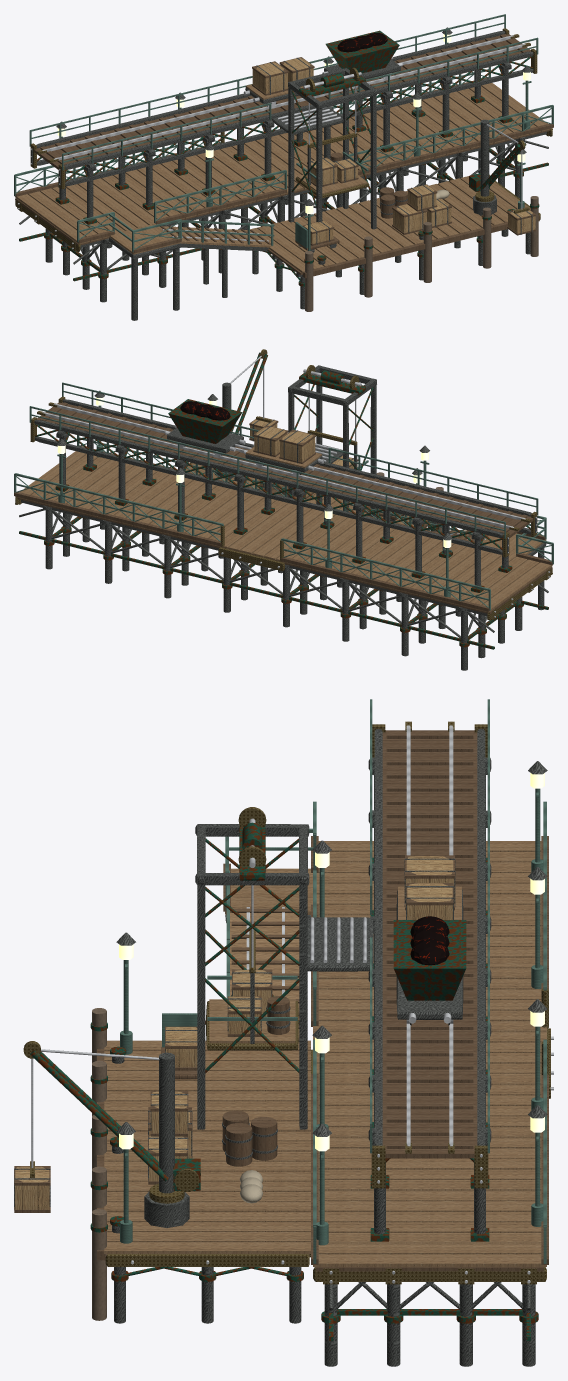
File: muelle_riotinto_odiel_juego_web.glb
The picture shows the model from 3 angles, top to bottom: view 1: azimuth 30°, elevation 25°; view 2: azimuth 150°, elevation 25°; view 3: azimuth 270°, elevation 25°; orthographic projection. The views are drawn at different scales.
Visible parts, largest first — view 1: Muelle_Madera_Tablero, Muelle_Hierro_Muelle, Muelle_Madera_Traviesa, Muelle_Barandilla_Verde, Muelle_Hierro_Oxido, Muelle_Madera_Caja, Muelle_Acero_Rail, Muelle_Defensa_Pilote, Muelle_Brida_Acople, Muelle_Mineral_Riotinto, Muelle_Luz_Farola; view 2: Muelle_Hierro_Muelle, Muelle_Madera_Tablero, Muelle_Barandilla_Verde, Muelle_Madera_Traviesa, Muelle_Hierro_Oxido, Muelle_Acero_Rail, Muelle_Brida_Acople, Muelle_Madera_Caja, Muelle_Mineral_Riotinto, Muelle_Luz_Farola; view 3: Muelle_Madera_Tablero, Muelle_Madera_Traviesa, Muelle_Hierro_Muelle, Muelle_Hierro_Oxido, Muelle_Barandilla_Verde, Muelle_Brida_Acople, Muelle_Madera_Caja, Muelle_Acero_Rail, Muelle_Defensa_Pilote, Muelle_Luz_Farola, Muelle_Mineral_Riotinto.
Part boxes in pixels (<box>): Muelle_Madera_Tablero: <box>15,82,552,273</box>; Muelle_Hierro_Muelle: <box>19,27,548,320</box>; Muelle_Madera_Traviesa: <box>15,34,553,278</box>; Muelle_Barandilla_Verde: <box>14,14,553,252</box>; Muelle_Hierro_Oxido: <box>19,30,548,286</box>; Muelle_Madera_Caja: <box>252,58,535,243</box>; Muelle_Acero_Rail: <box>17,35,525,249</box>; Muelle_Defensa_Pilote: <box>305,196,538,311</box>; Muelle_Brida_Acople: <box>15,28,552,251</box>; Muelle_Mineral_Riotinto: <box>337,33,387,52</box>; Muelle_Luz_Farola: <box>57,34,530,213</box>; Muelle_Hierro_Muelle: <box>19,365,548,670</box>; Muelle_Madera_Tablero: <box>15,446,552,612</box>; Muelle_Barandilla_Verde: <box>14,382,553,610</box>; Muelle_Madera_Traviesa: <box>14,402,552,614</box>; Muelle_Hierro_Oxido: <box>19,352,548,649</box>; Muelle_Acero_Rail: <box>42,355,550,617</box>; Muelle_Brida_Acople: <box>15,349,552,619</box>; Muelle_Madera_Caja: <box>250,418,391,512</box>; Muelle_Mineral_Riotinto: <box>180,401,230,420</box>; Muelle_Luz_Farola: <box>57,397,451,547</box>; Muelle_Madera_Tablero: <box>104,841,546,1266</box>; Muelle_Madera_Traviesa: <box>14,730,548,1271</box>; Muelle_Hierro_Muelle: <box>14,729,547,1366</box>; Muelle_Hierro_Oxido: <box>30,822,538,1340</box>; Muelle_Barandilla_Verde: <box>120,699,546,1263</box>; Muelle_Brida_Acople: <box>23,721,550,1284</box>; Muelle_Madera_Caja: <box>15,856,454,1209</box>; Muelle_Acero_Rail: <box>31,725,553,1283</box>; Muelle_Defensa_Pilote: <box>92,1008,106,1320</box>; Muelle_Luz_Farola: <box>119,773,544,1151</box>; Muelle_Mineral_Riotinto: <box>410,916,449,965</box>.
Bounding box in the file's own units: 16.2 × 6.19 × 8.62.
12 materials, 11 textured.
